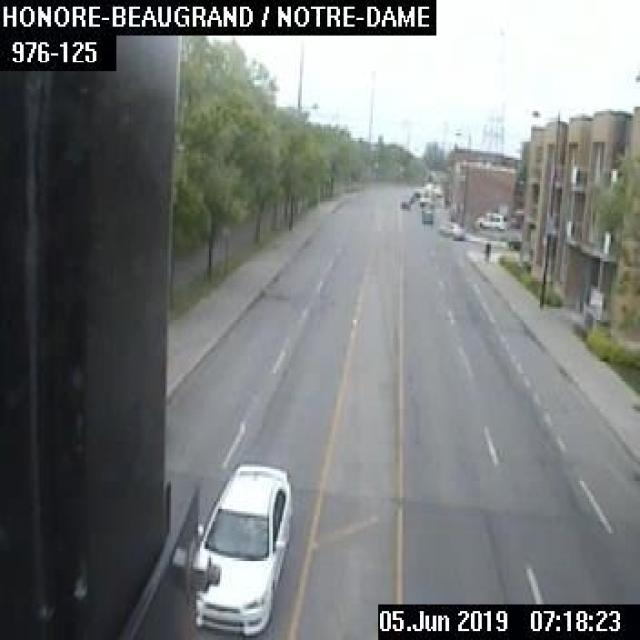pedestrian: (483, 240, 489, 260)
vehicle: (196, 460, 289, 638), (476, 211, 506, 231), (436, 222, 464, 238), (419, 208, 432, 224)
